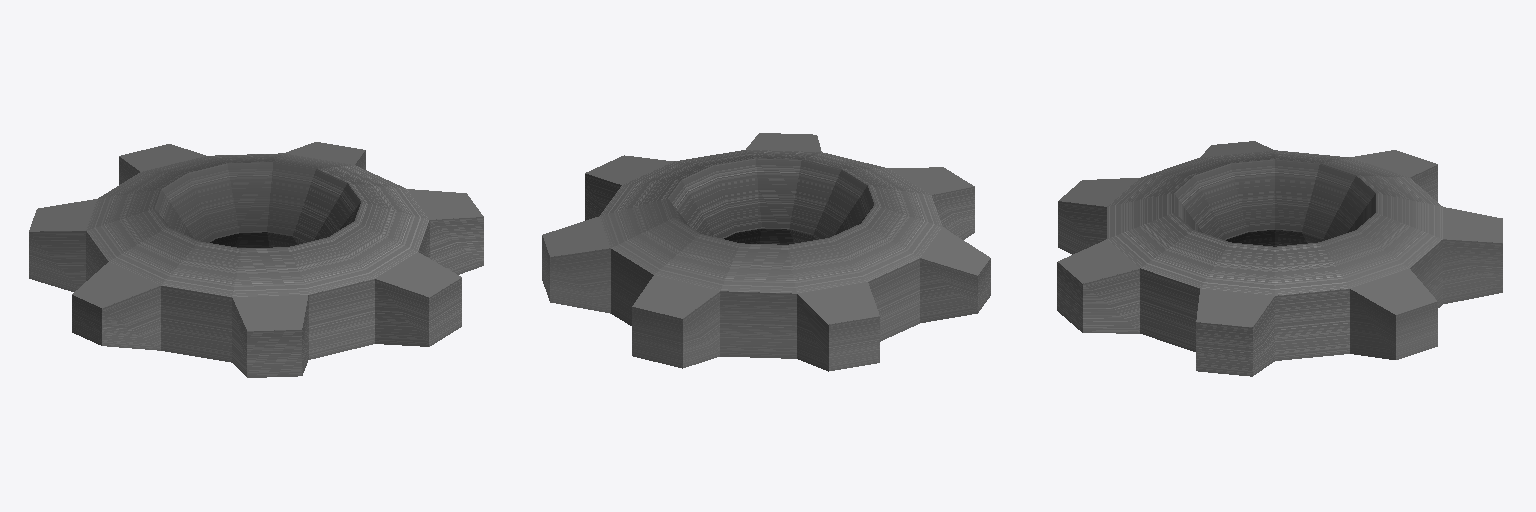
3 renders of one model, left to right at view 1: azimuth 30°, elevation 25°; view 2: azimuth 150°, elevation 25°; view 3: azimuth 270°, elevation 25°, orthographic.
Visible parts, largest first — view 1: pTorus1; view 2: pTorus1; view 3: pTorus1.
Boxes of the visible parts, <box> form: pTorus1: <box>29,142,483,377</box>; pTorus1: <box>542,133,990,371</box>; pTorus1: <box>1057,141,1502,376</box>.
Size of the model in its own units: 3.71 by 0.9511 by 3.63.
Materials: 1 (1 with a texture image).